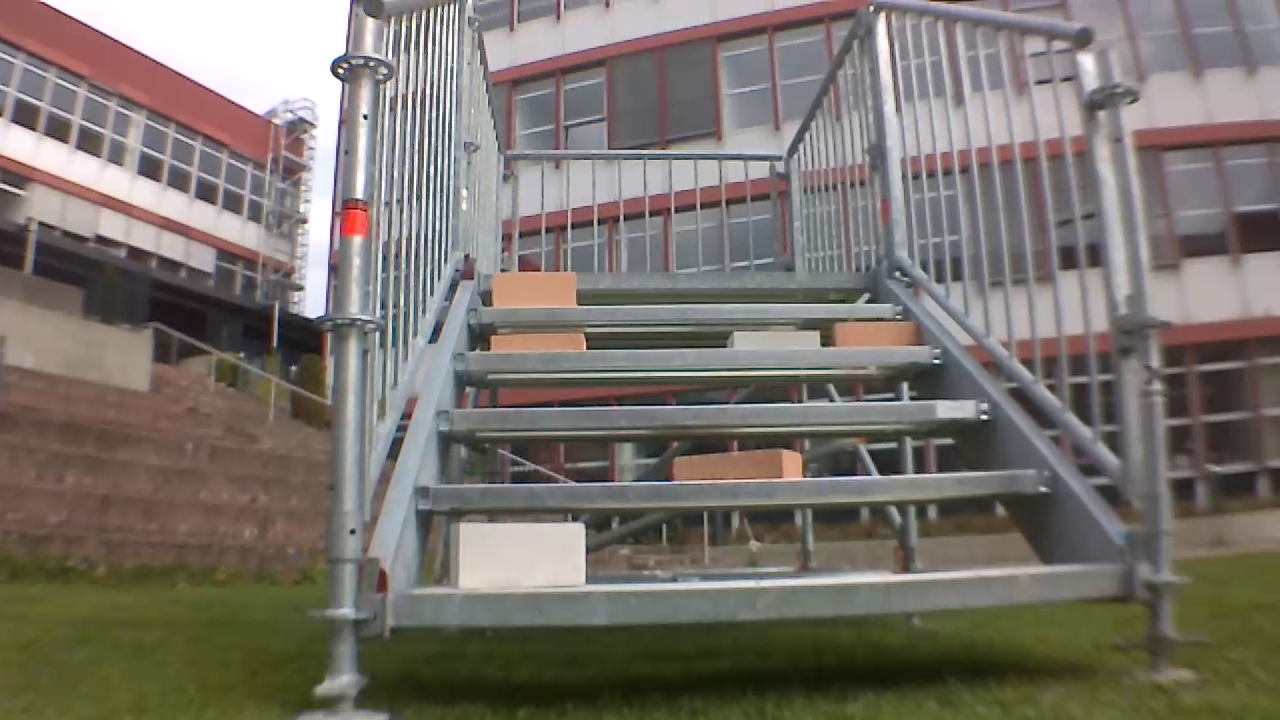brick: (451, 519, 589, 589), (671, 451, 802, 484), (492, 273, 579, 308), (829, 323, 917, 354), (729, 329, 820, 353), (491, 331, 584, 354)
edge: (395, 566, 1125, 625), (415, 469, 1053, 508), (432, 400, 994, 438), (454, 343, 943, 375), (466, 302, 911, 324), (476, 271, 880, 289)
stairs: (314, 0, 1174, 662)
steps: (372, 267, 1125, 630)
